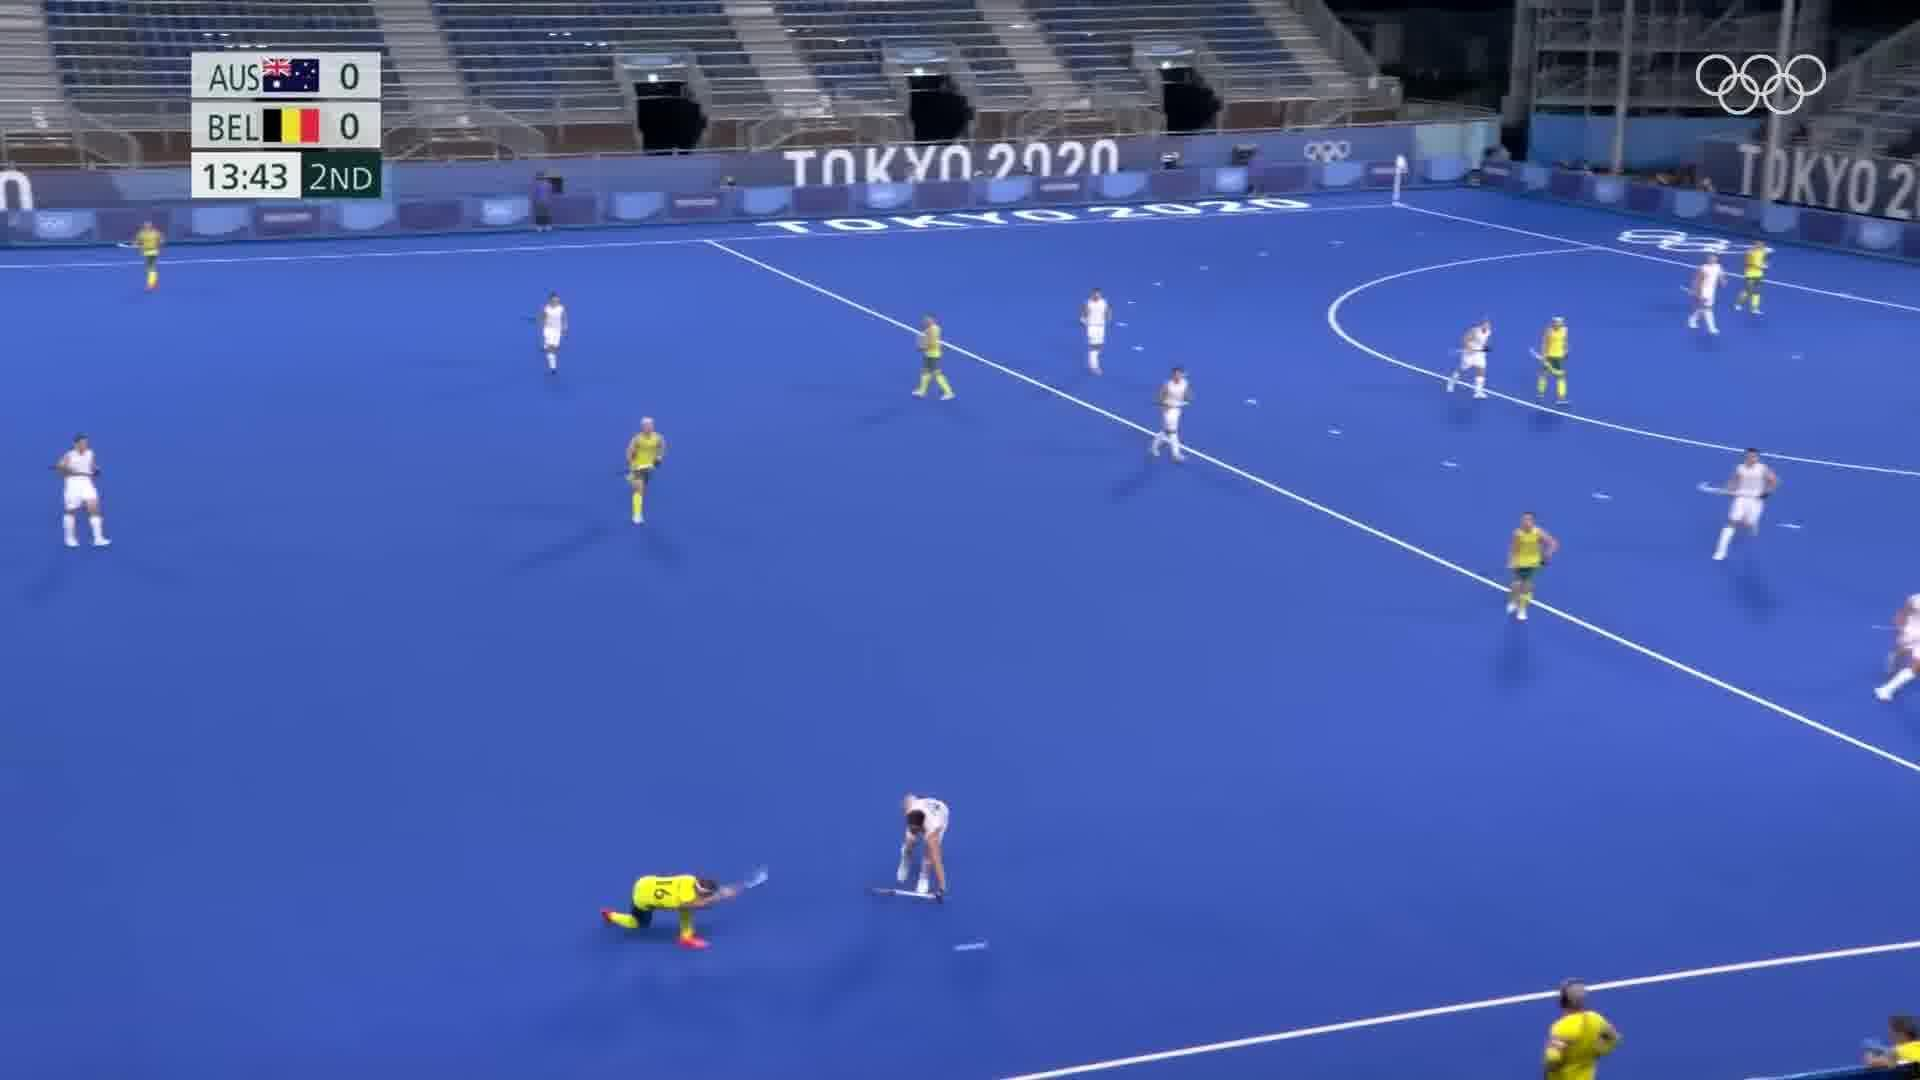ball: (944, 939, 998, 964)
